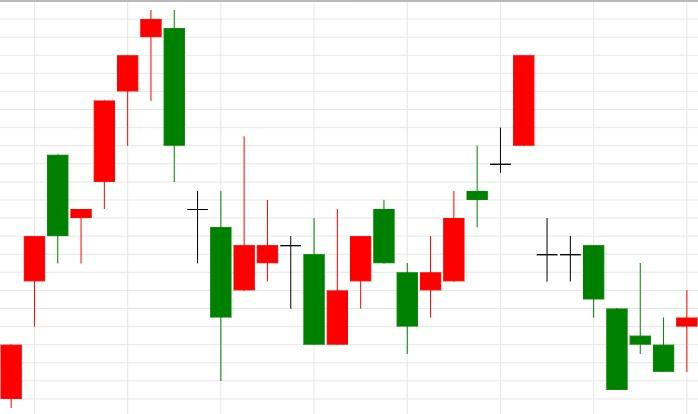hanging_man_fall: (0, 10, 163, 408)
